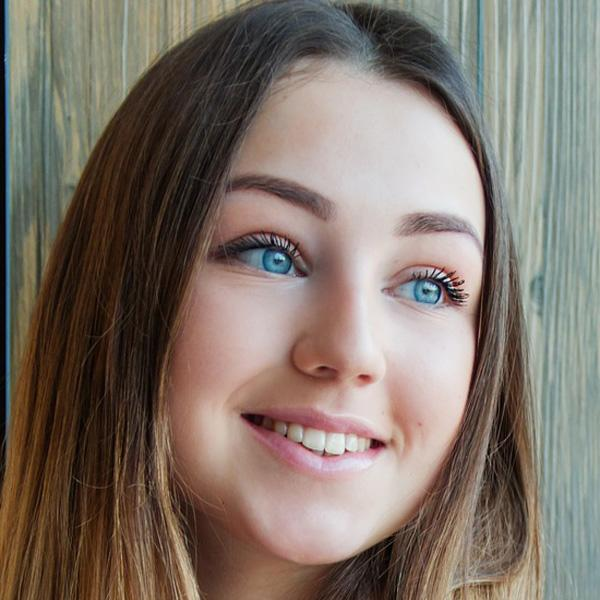Eyes: (210, 218, 314, 288), (376, 256, 471, 328)
